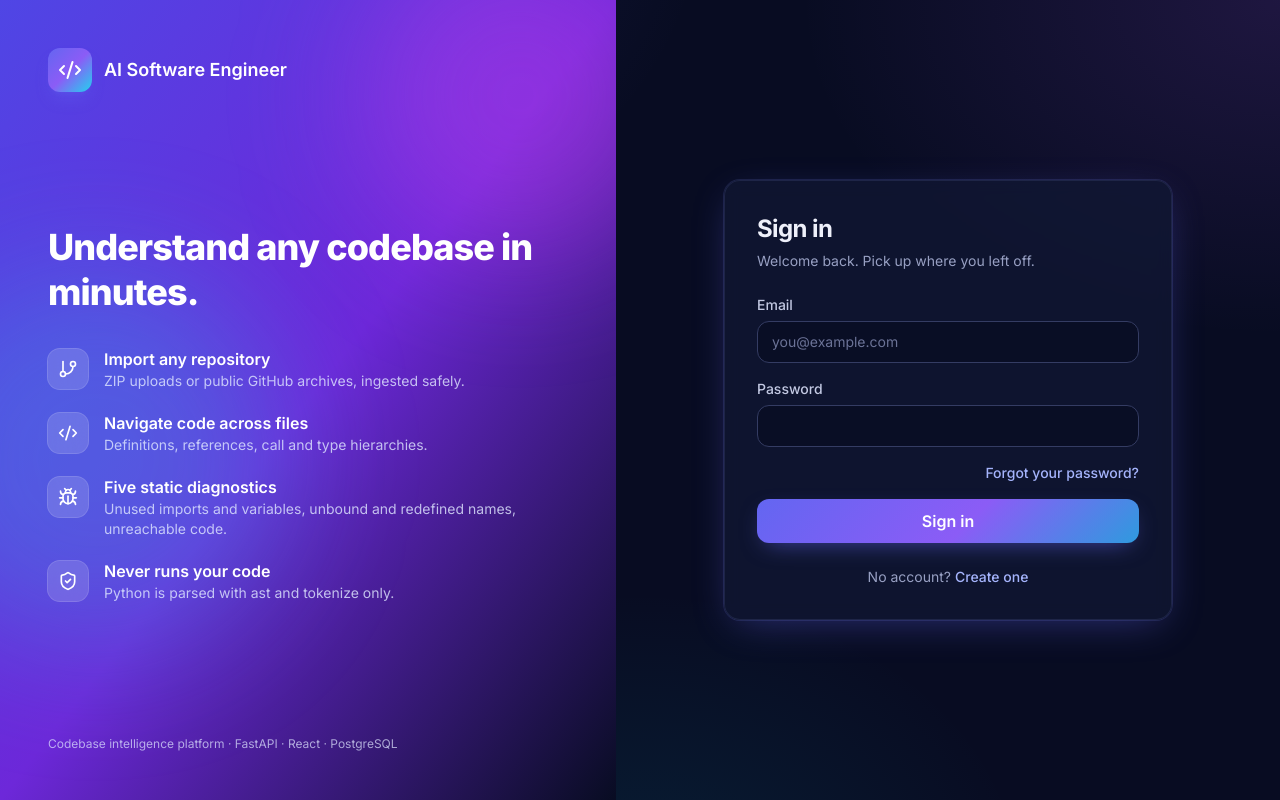
Test: sign in › shows the API error and does not disclose the password
Type "alice@example.com" into the field labelled "Email" at (948, 342), box [757,321,1139,363]
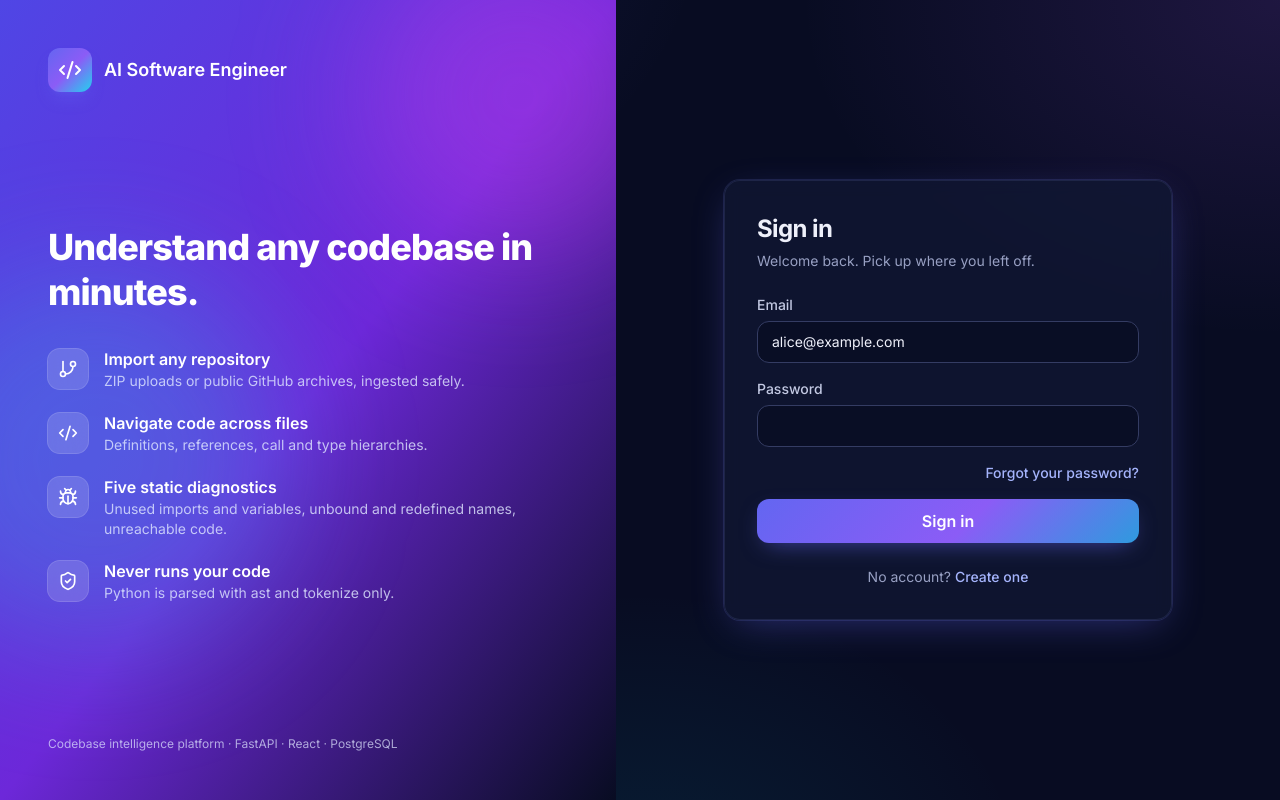
Type "correct-horse-battery" into the password field labelled "Password" at (948, 426), box [757,405,1139,447]
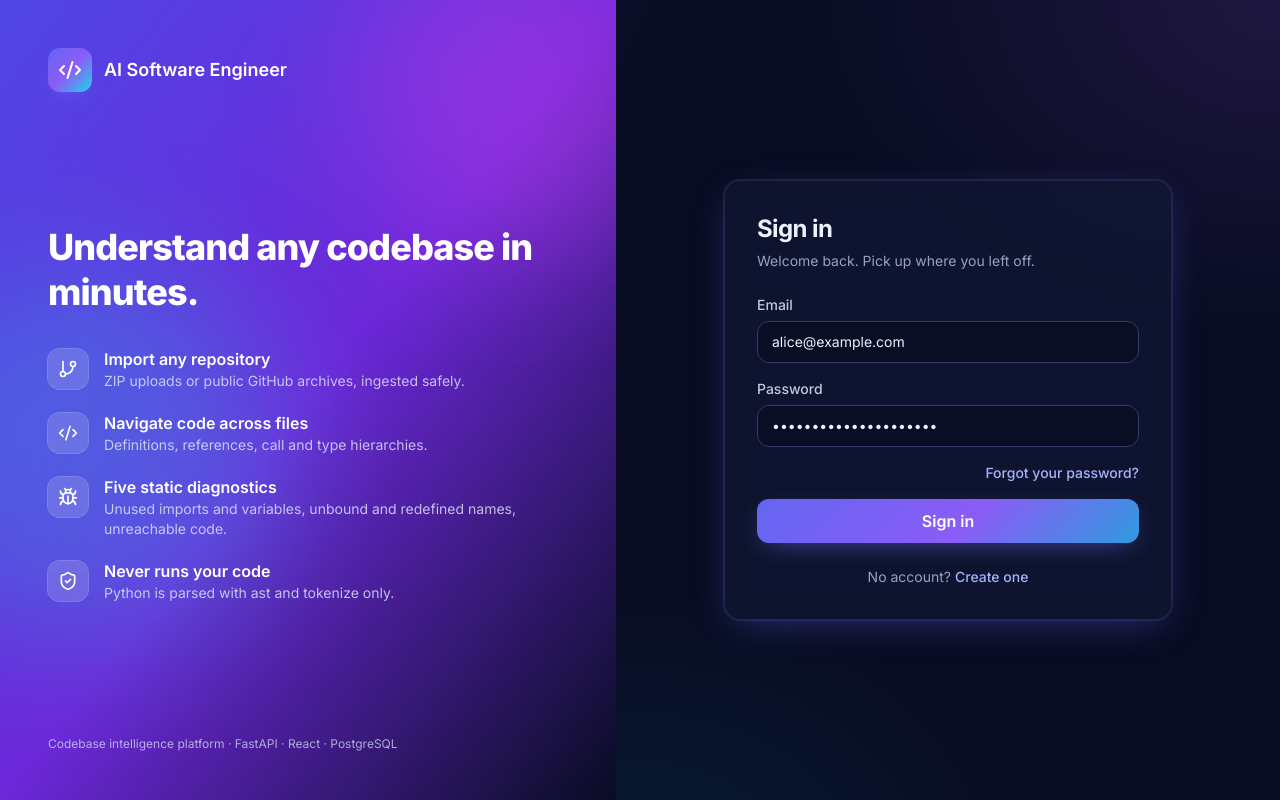
Click the button "Sign in" at (948, 521), box [757,499,1139,543]
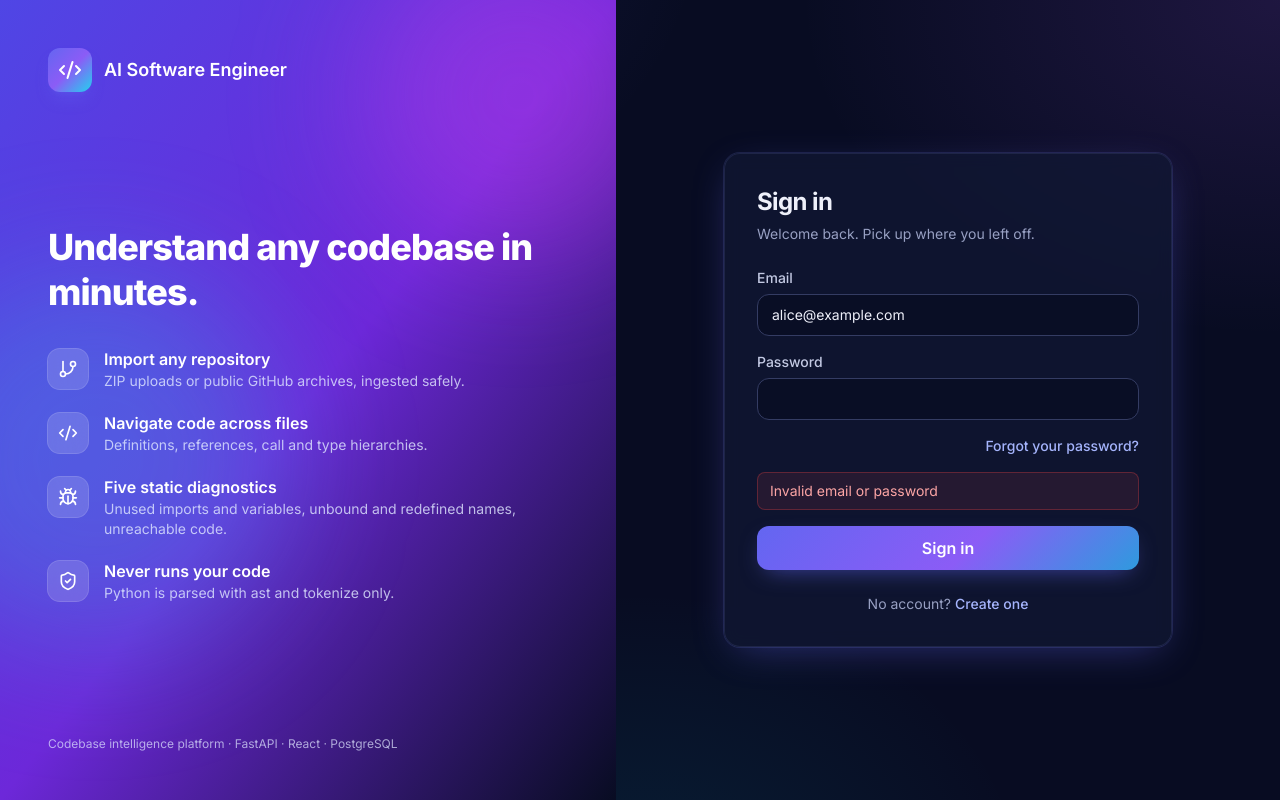
Result: the message reads "Invalid email or password" at [770,482,938,499]
Result: the password field labelled "Password" is empty at [757,378,1139,420]
